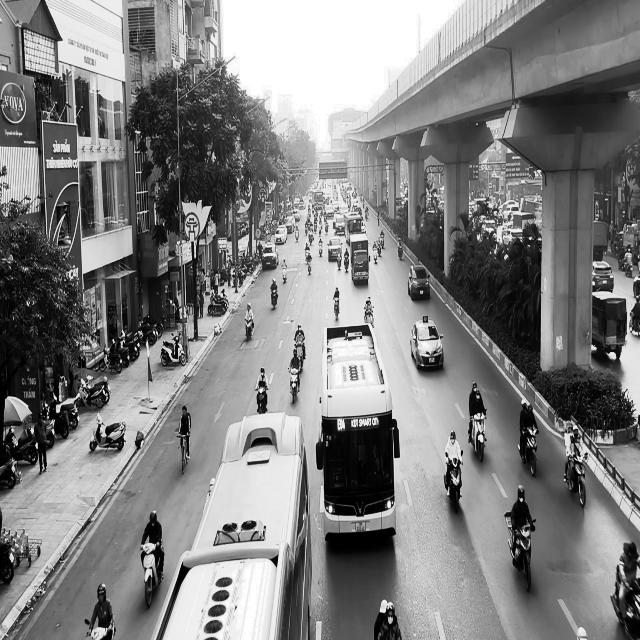bus: (315, 323, 400, 540)
car: (410, 315, 444, 370), (407, 264, 430, 300), (592, 260, 614, 292)
motorbike: (504, 511, 536, 592), (610, 566, 640, 639), (140, 540, 164, 608), (89, 412, 126, 451), (563, 452, 589, 507), (444, 450, 464, 512), (518, 426, 538, 477), (468, 410, 487, 462), (160, 332, 186, 366), (175, 430, 190, 474), (288, 367, 300, 403), (255, 383, 268, 413), (245, 317, 254, 340), (270, 287, 278, 309), (333, 296, 340, 320), (281, 264, 287, 283)
truck: (151, 412, 312, 640)
